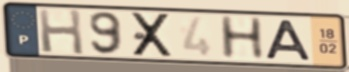4: (179, 14, 216, 59)
9: (87, 10, 124, 57)
A: (264, 19, 314, 62)
H: (36, 7, 87, 57), (217, 14, 268, 61)
X: (130, 11, 176, 59)
